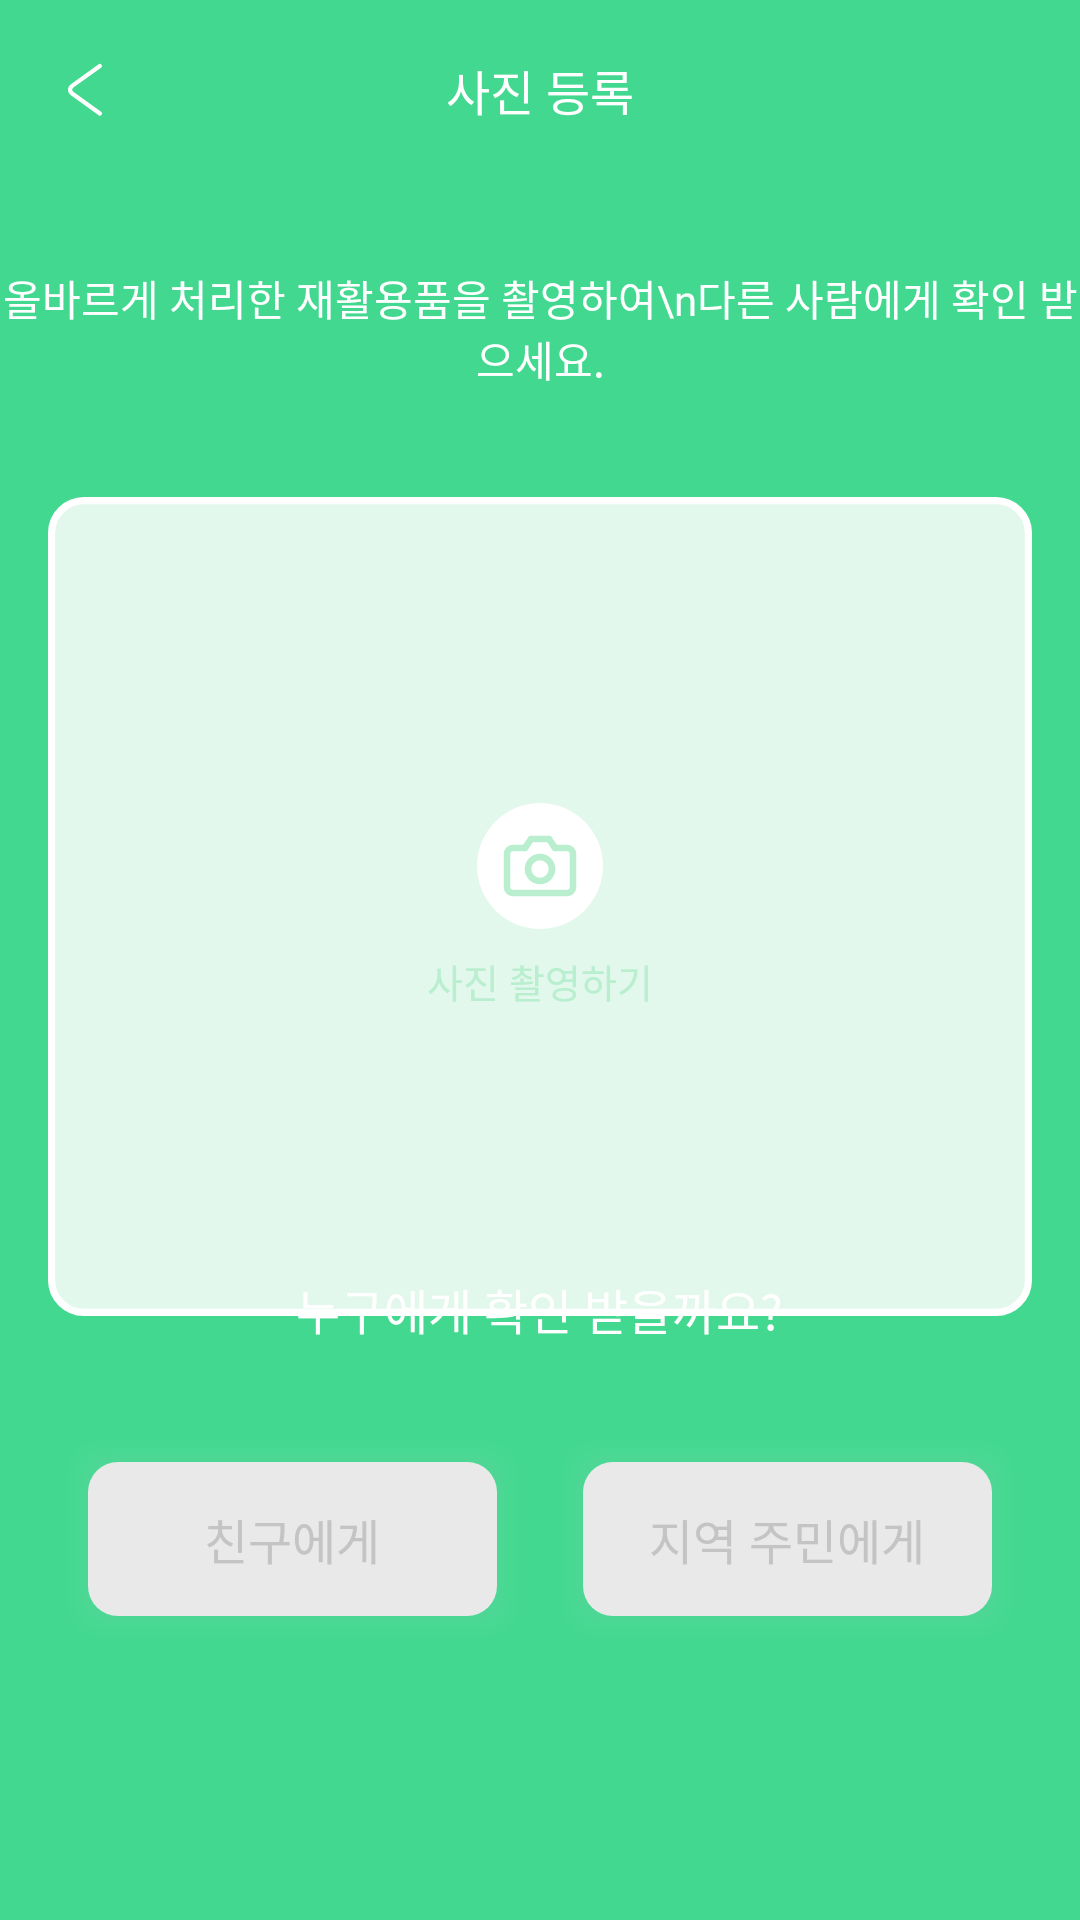

Screen size 1080 x 1920. Icon name, then its box in pixels as [x1=x1, y1=y1, x2=x2, y2=y2]:
arrow: [x1=68, y1=64, x2=102, y2=116]
camera: [x1=477, y1=803, x2=603, y2=929]
